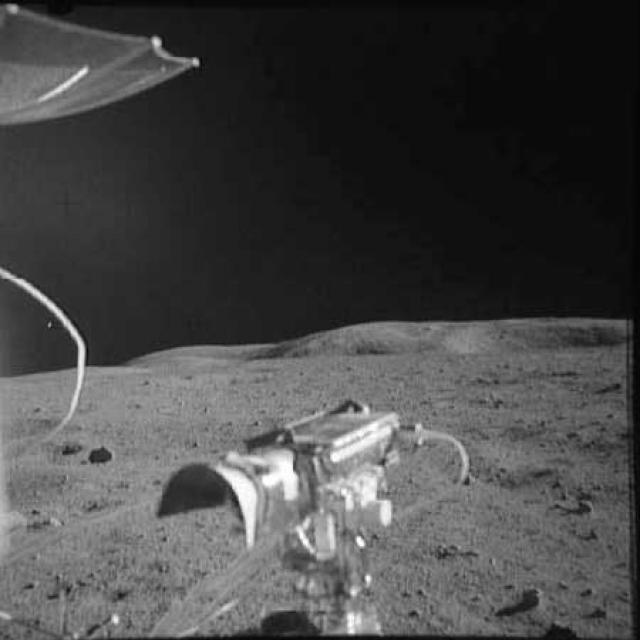artifact: (0, 1, 471, 638)
rock: (430, 535, 488, 565), (34, 504, 76, 530), (516, 579, 550, 610), (88, 443, 120, 473), (551, 617, 592, 638), (572, 498, 595, 520)
